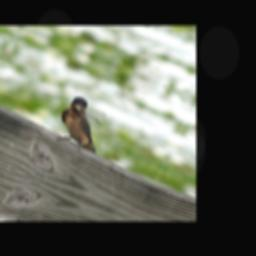Swallow: (48, 93, 117, 160)
